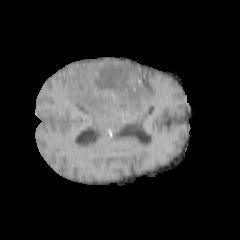glioma: (64, 62, 153, 118)
